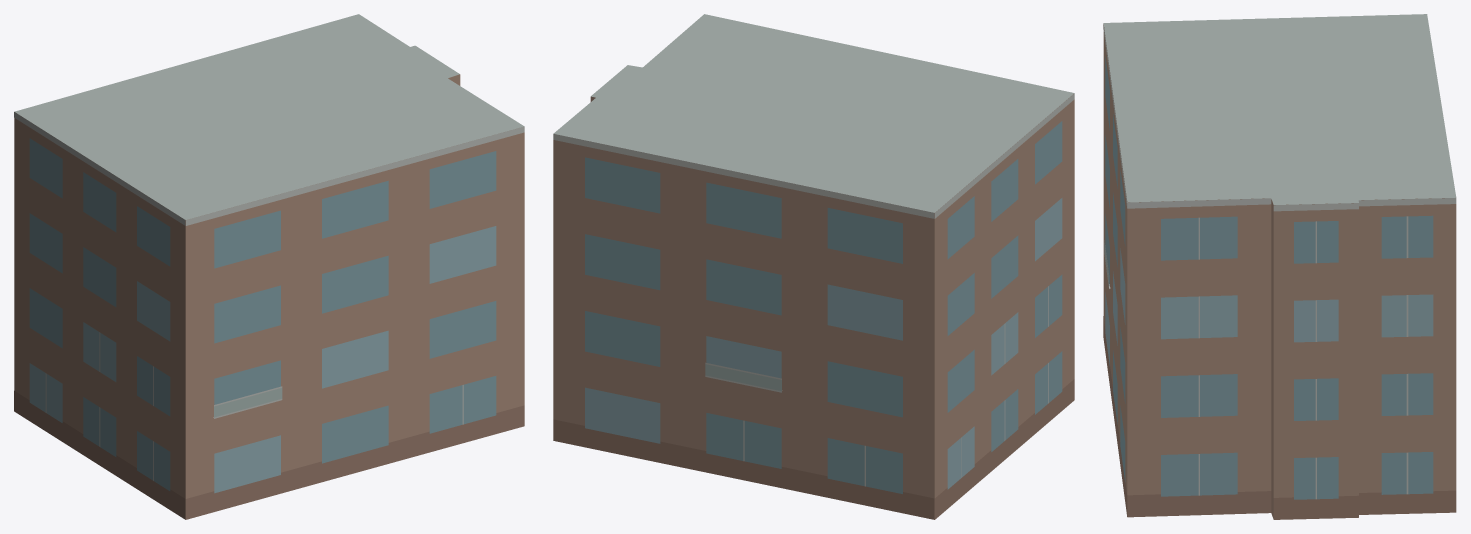
The model's file is survey-upis-32822498.glb.
The picture shows the model from 3 angles, left to right: view 1: azimuth 30°, elevation 25°; view 2: azimuth 150°, elevation 25°; view 3: azimuth 270°, elevation 25°; orthographic projection. The views are drawn at different scales.
Parts seen in each view (by area): view 1: survey-upis-32822498.tmp; view 2: survey-upis-32822498.tmp; view 3: survey-upis-32822498.tmp.
Part boxes in pixels (bbox=[...]): survey-upis-32822498.tmp: bbox=[14, 14, 524, 519]; survey-upis-32822498.tmp: bbox=[553, 14, 1074, 519]; survey-upis-32822498.tmp: bbox=[1103, 14, 1456, 519].
Size of the model in its own units: 16.02 by 12.3 by 12.5.
